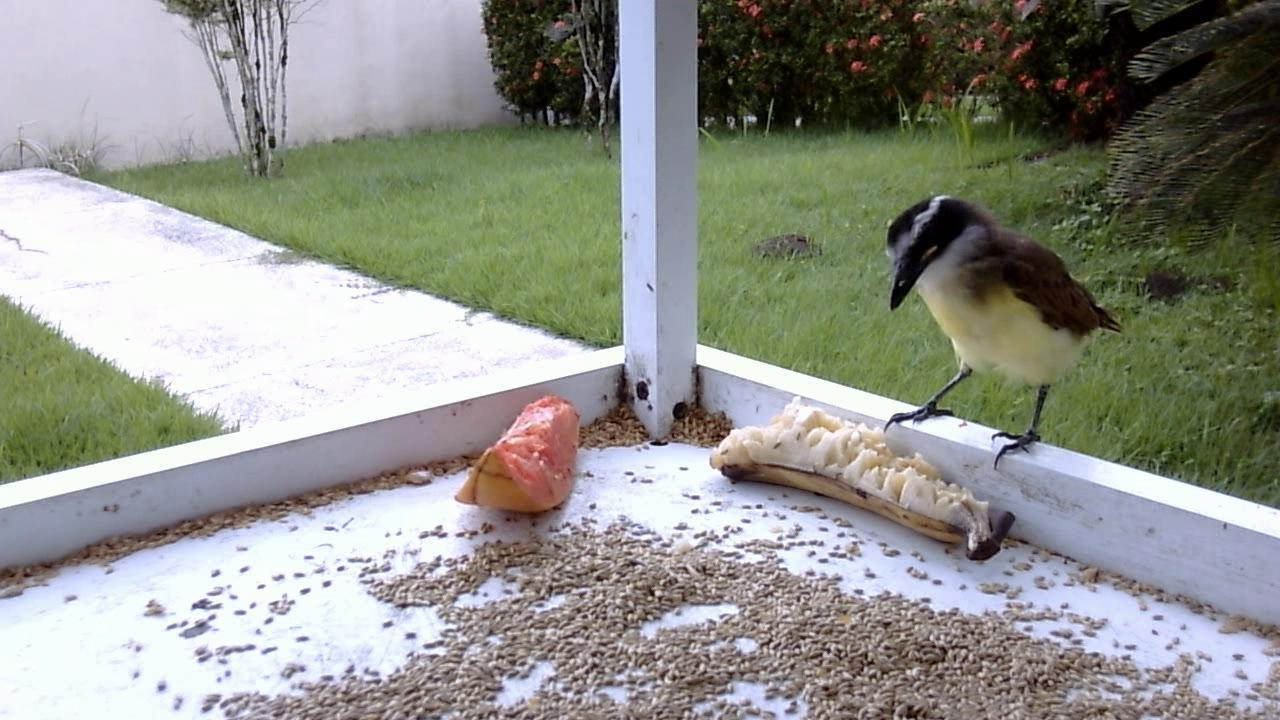bem_te_vi: (877, 182, 1127, 482)
